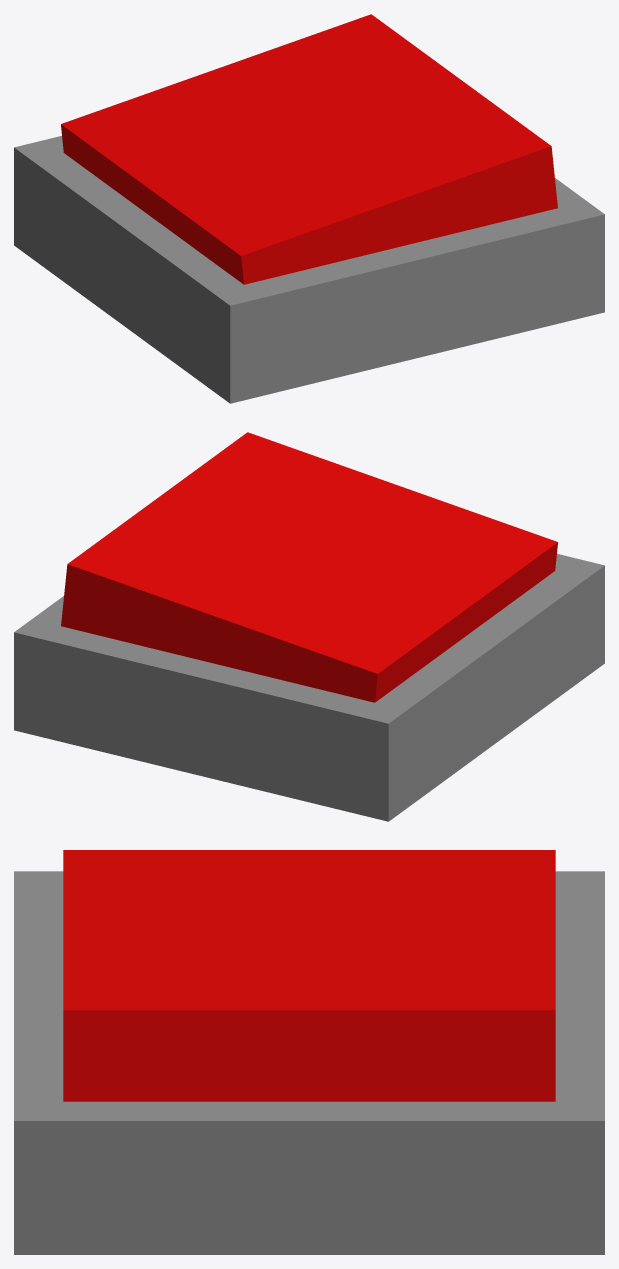
The model's file is DisabledSwitch.fbx.
3 views of the same model, one above another, from view 1: azimuth 30°, elevation 25°; view 2: azimuth 150°, elevation 25°; view 3: azimuth 270°, elevation 25° (orthographic). The views are drawn at different scales.
Visible parts, largest first — view 1: ActiveSwitch.001; view 2: ActiveSwitch.001; view 3: ActiveSwitch.001.
Boxes of the visible parts, left/top/right/bottom form: ActiveSwitch.001: left=14, top=14, right=604, bottom=403; ActiveSwitch.001: left=14, top=432, right=604, bottom=821; ActiveSwitch.001: left=14, top=850, right=604, bottom=1254.
Bounding box in the file's own units: 90 × 37.11 × 90.
